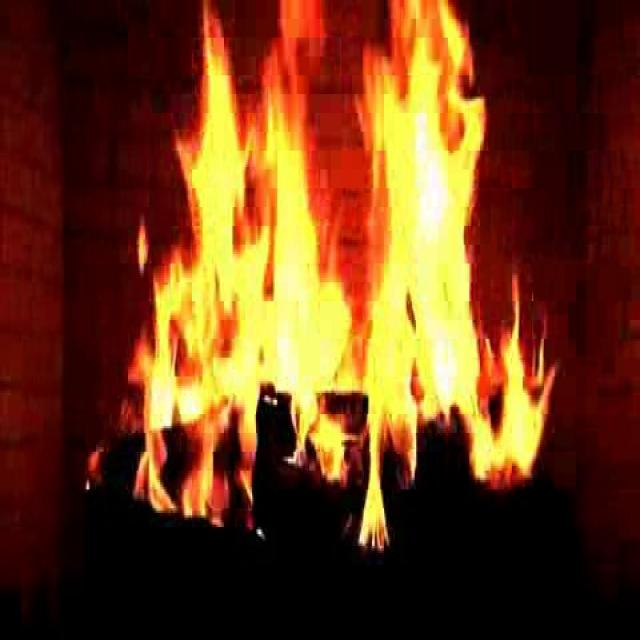fire: (93, 0, 551, 581)
